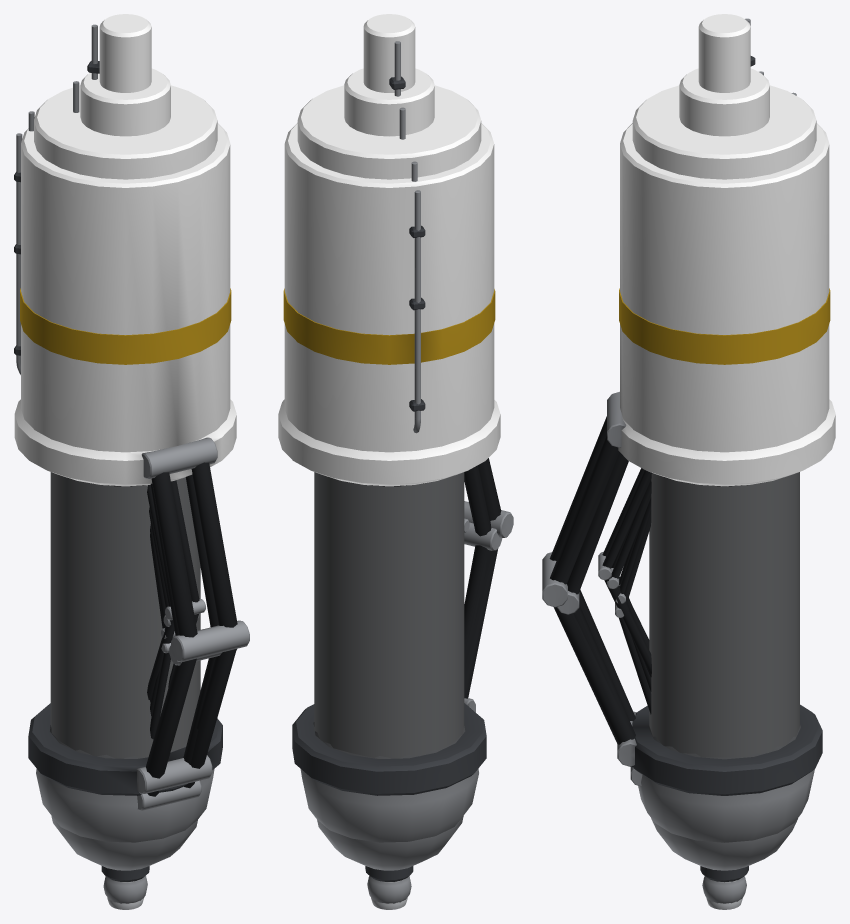
The model's file is estilo_tren_pata.glb.
The picture shows the model from 3 angles, left to right: view 1: azimuth 30°, elevation 25°; view 2: azimuth 150°, elevation 25°; view 3: azimuth 270°, elevation 25°; orthographic projection.
Visible parts, largest first — view 1: c162x1100, c142x1180, b80x1500x80, c70x1300, c85x1000, c70x1200; view 2: c162x1100, c142x1180, b80x1500x80, c70x1300; view 3: c162x1100, c142x1180, c70x1300, b80x1500x80, c85x1000, c75x1080, c70x1200.
Part boxes in pixels (box(x1,y1,x2,y2)): c162x1100: box(14, 123, 249, 842); c142x1180: box(28, 85, 236, 870); b80x1500x80: box(87, 14, 151, 909); c70x1300: box(73, 68, 170, 739); c85x1000: box(147, 480, 205, 699); c70x1200: box(80, 115, 175, 716); c162x1100: box(278, 123, 513, 842); c142x1180: box(297, 85, 502, 870); b80x1500x80: box(363, 14, 415, 909); c70x1300: box(344, 68, 434, 139); c162x1100: box(542, 123, 835, 842); c142x1180: box(557, 85, 816, 870); c70x1300: box(615, 68, 769, 714); b80x1500x80: box(698, 14, 755, 909); c85x1000: box(598, 468, 651, 675); c75x1080: box(607, 480, 651, 677); c70x1200: box(615, 124, 763, 691).
Size of the model in its own units: 0.3434 by 1.5 by 0.4537.
